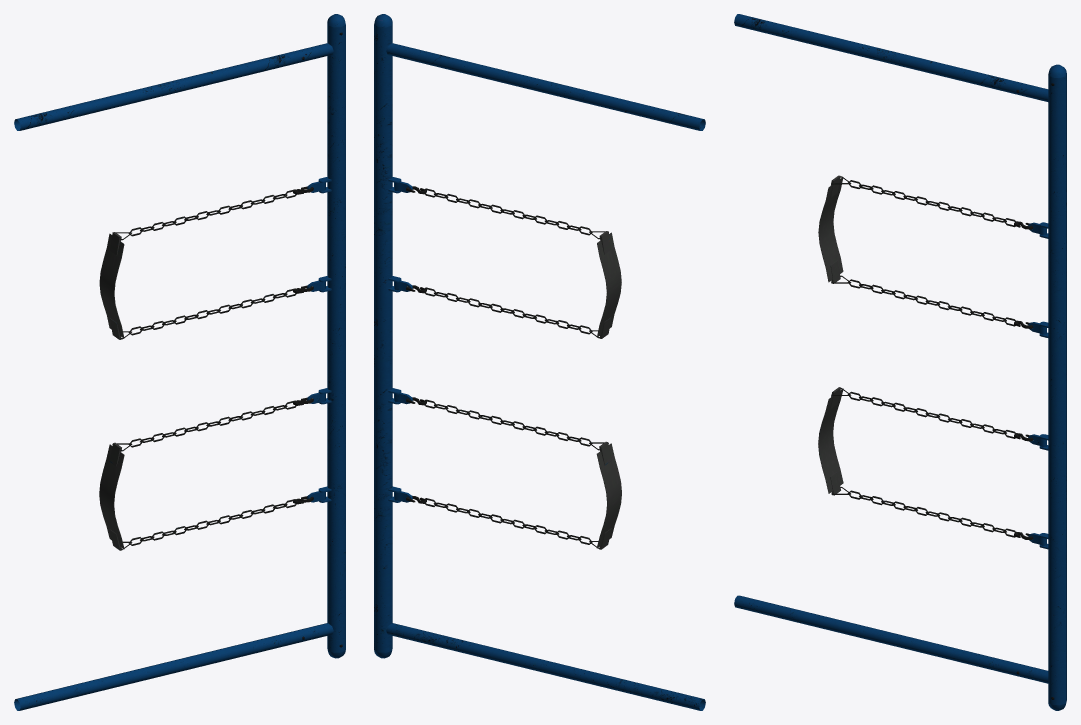
Rendered from cP_Swingset.dae.
3 views of the same model, side by side, from view 1: azimuth 30°, elevation 25°; view 2: azimuth 150°, elevation 25°; view 3: azimuth 330°, elevation 25° (orthographic).
Parts seen in each view (by area): view 1: cP_Swingset.001; view 2: cP_Swingset.001; view 3: cP_Swingset.001.
Boxes of the visible parts, <box> form: cP_Swingset.001: <box>14,14,345,710</box>; cP_Swingset.001: <box>374,14,705,710</box>; cP_Swingset.001: <box>734,14,1066,710</box>.
Size of the model in its own units: 2.81 by 0.2163 by 5.27.
